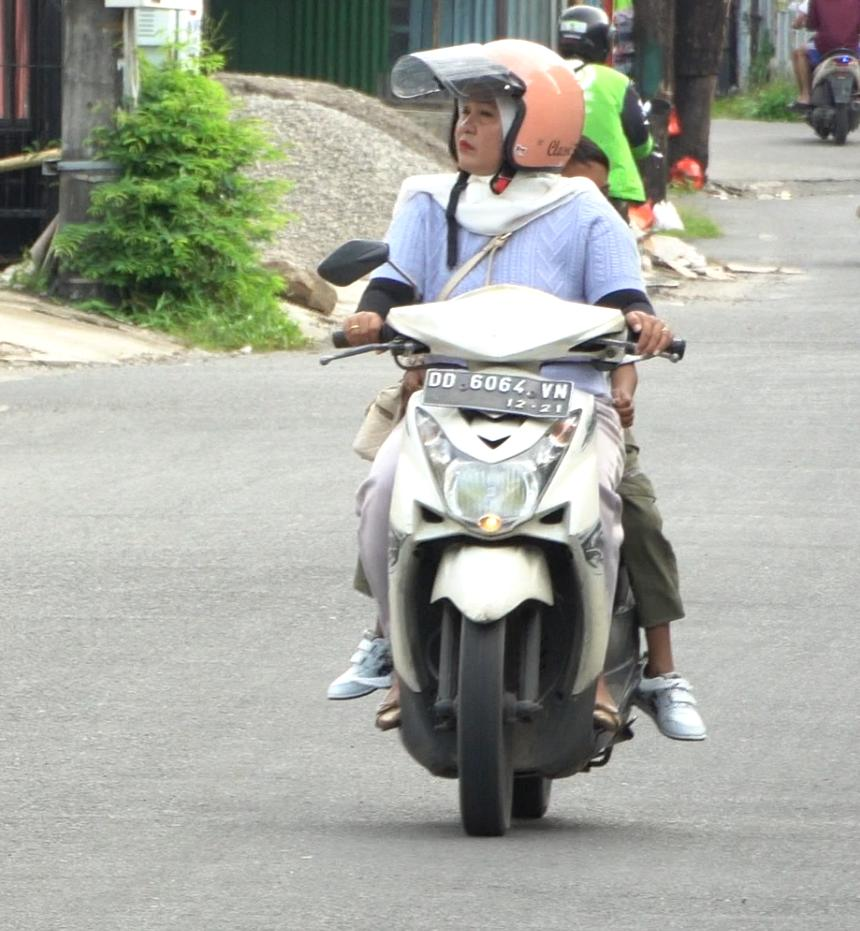number-plate: (424, 368, 576, 422)
